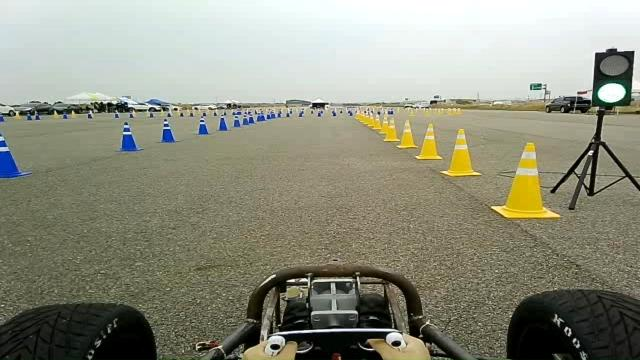blue cone: (0, 132, 32, 178), (114, 121, 143, 151), (156, 118, 178, 143), (196, 114, 210, 135), (216, 113, 228, 131), (230, 112, 242, 127), (241, 112, 250, 127), (60, 109, 70, 120), (247, 111, 255, 124), (271, 106, 278, 120), (24, 110, 32, 121), (265, 108, 272, 120), (34, 110, 42, 120), (256, 111, 263, 122), (88, 109, 94, 121), (113, 111, 119, 119)
yellow cone: (490, 142, 560, 219), (439, 128, 482, 176), (414, 123, 442, 160), (396, 119, 417, 148), (382, 117, 399, 141), (378, 111, 393, 134), (370, 109, 383, 130), (366, 112, 378, 128), (364, 110, 373, 126), (14, 111, 22, 119), (52, 110, 59, 118), (70, 110, 76, 118)
